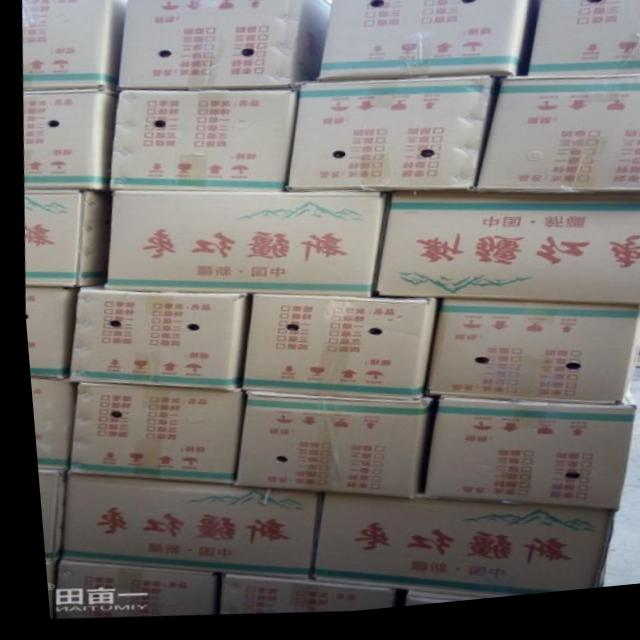box: (367, 199, 640, 320), (298, 497, 602, 604), (101, 192, 377, 305), (48, 475, 311, 583), (414, 405, 623, 522), (278, 87, 493, 198), (422, 307, 639, 414), (225, 395, 424, 504), (232, 298, 427, 406), (102, 90, 291, 196), (471, 86, 640, 203), (315, 0, 544, 86), (62, 286, 242, 394), (119, 0, 328, 90), (60, 383, 235, 489), (22, 88, 114, 193), (39, 559, 207, 616), (22, 0, 124, 92), (21, 190, 103, 288), (203, 576, 390, 616), (21, 286, 72, 382), (24, 376, 63, 471), (30, 467, 57, 558), (390, 596, 498, 614), (36, 561, 44, 618)
